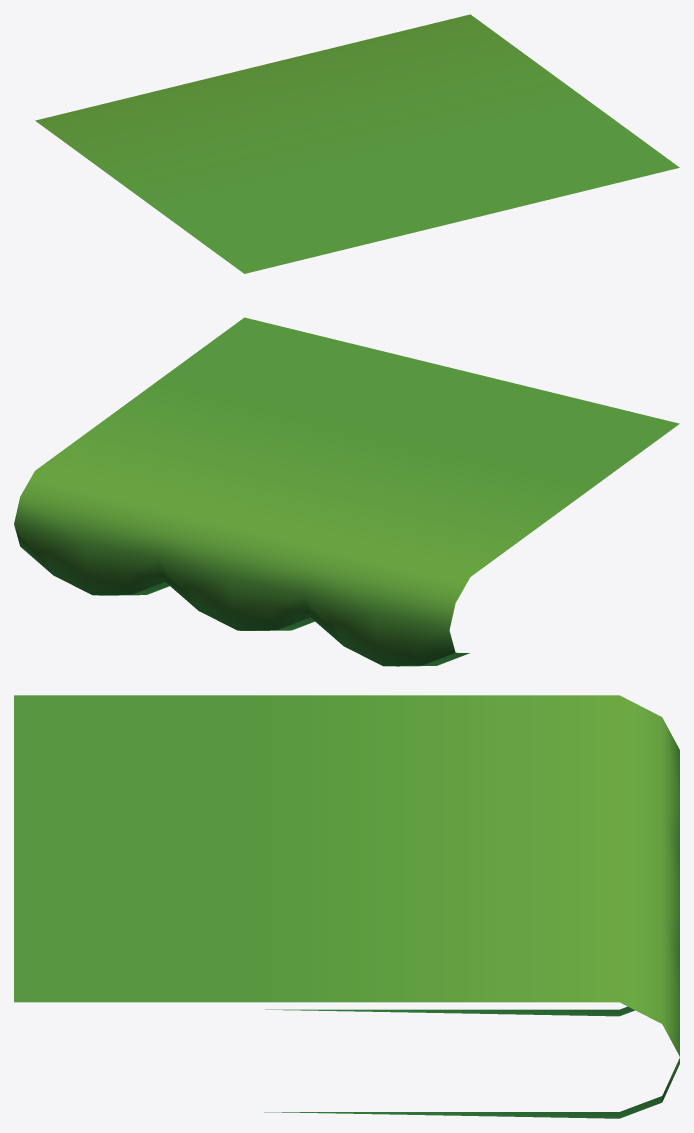
File: Hill_Top_B_Side_Color1.gltf
3 renders of one model, top to bottom at view 1: azimuth 30°, elevation 25°; view 2: azimuth 150°, elevation 25°; view 3: azimuth 270°, elevation 25°, orthographic. The views are drawn at different scales.
Visible parts, largest first — view 1: Hill_Top_B_Side_Color1; view 2: Hill_Top_B_Side_Color1; view 3: Hill_Top_B_Side_Color1.
Boxes of the visible parts, x1=… form: Hill_Top_B_Side_Color1: x1=35, y1=14, x2=679, y2=273; Hill_Top_B_Side_Color1: x1=14, y1=317, x2=679, y2=666; Hill_Top_B_Side_Color1: x1=14, y1=695, x2=679, y2=1118.
Bounding box in the file's own units: 3 × 0.7052 × 2.75.
1 material, 1 textured.
